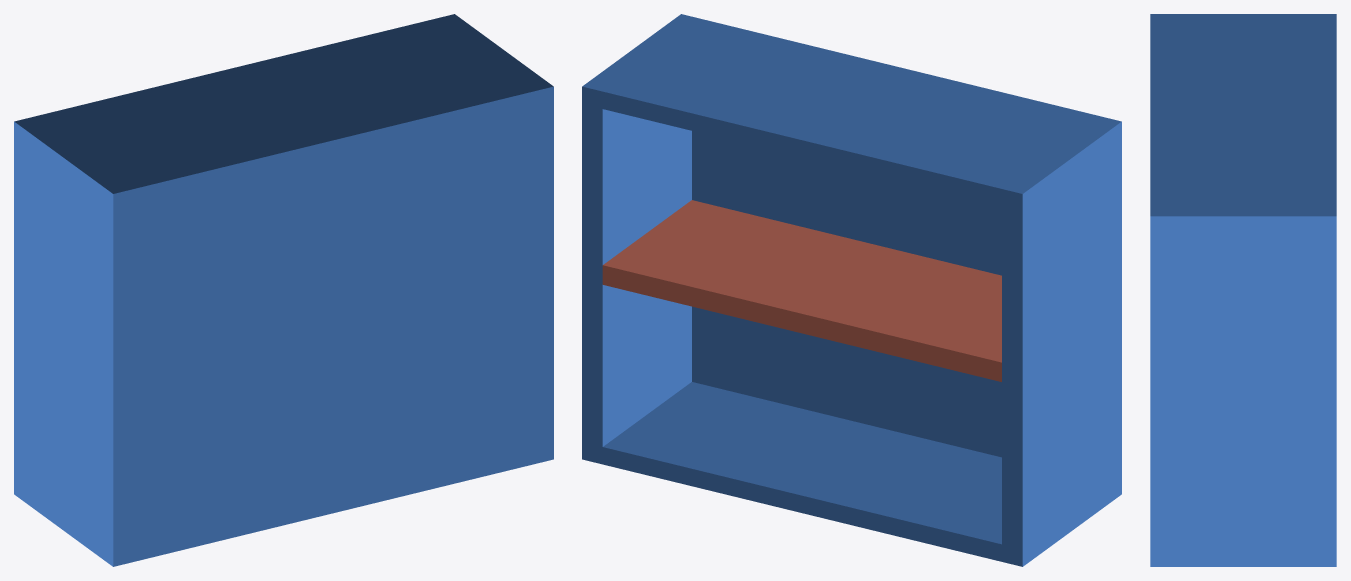
Rendered from Shelf 5.fbx.
The picture shows the model from 3 angles, left to right: view 1: azimuth 30°, elevation 25°; view 2: azimuth 150°, elevation 25°; view 3: azimuth 270°, elevation 25°; orthographic projection. The views are drawn at different scales.
Visible parts, largest first — view 1: Node 0; view 2: Node 0; view 3: Node 0.
Part boxes in pixels (box(x1,y1,x2,y2)): Node 0: box(14, 14, 553, 566); Node 0: box(582, 14, 1121, 566); Node 0: box(1150, 14, 1336, 566).
Size of the model in its own units: 0.3802 by 0.7893 by 0.9759.
